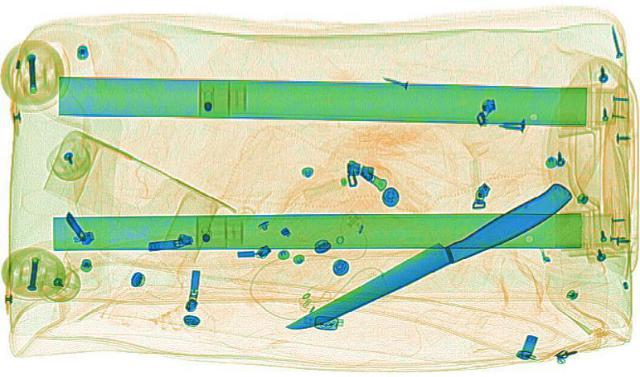Knife: (274, 181, 588, 338)
